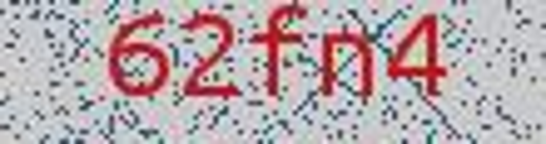2: (176, 9, 246, 107)
4: (383, 10, 453, 103)
6: (107, 4, 175, 114)
f: (249, 2, 309, 102)
n: (315, 21, 382, 108)
